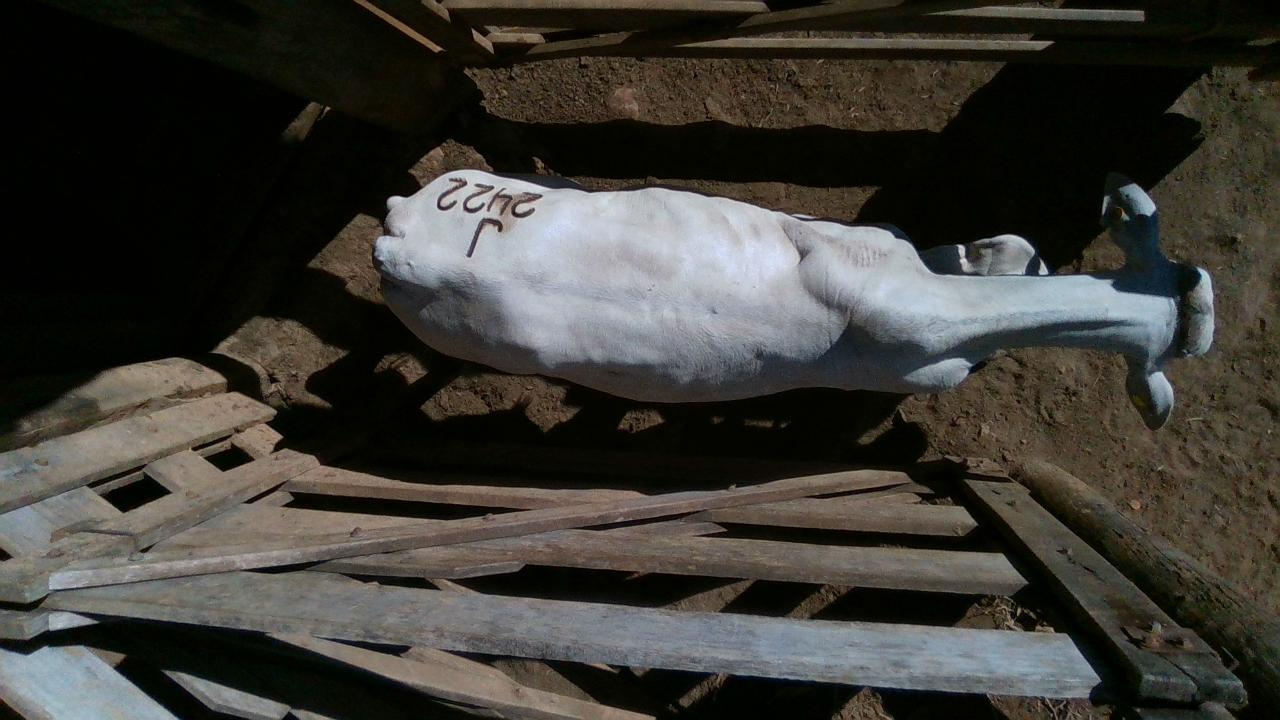cattle: (370, 165, 1216, 431)
